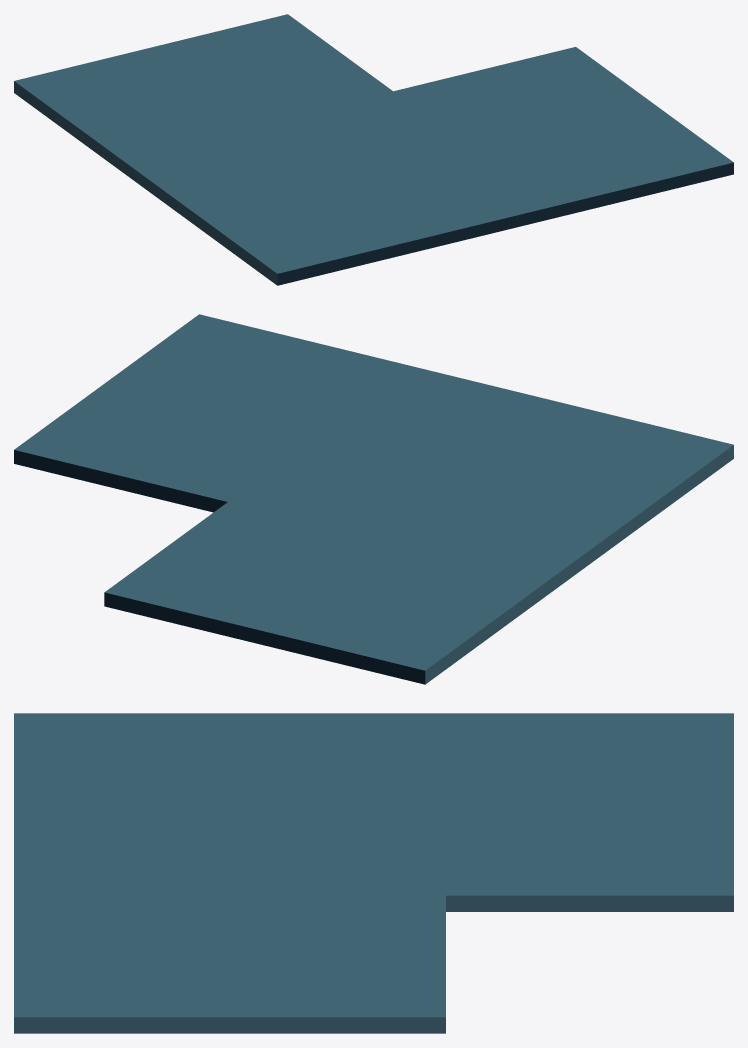
The model's file is cubo_6.FBX.
3 views of the same model, one above another, from view 1: azimuth 30°, elevation 25°; view 2: azimuth 150°, elevation 25°; view 3: azimuth 270°, elevation 25° (orthographic). The views are drawn at different scales.
Parts seen in each view (by area): view 1: Box001; view 2: Box001; view 3: Box001.
Part boxes in pixels (x1,y1,x2,y2): Box001: (14, 14, 733, 285); Box001: (14, 314, 733, 684); Box001: (14, 713, 733, 1033).
Bounding box in the file's own units: 10 × 0.25 × 10.
